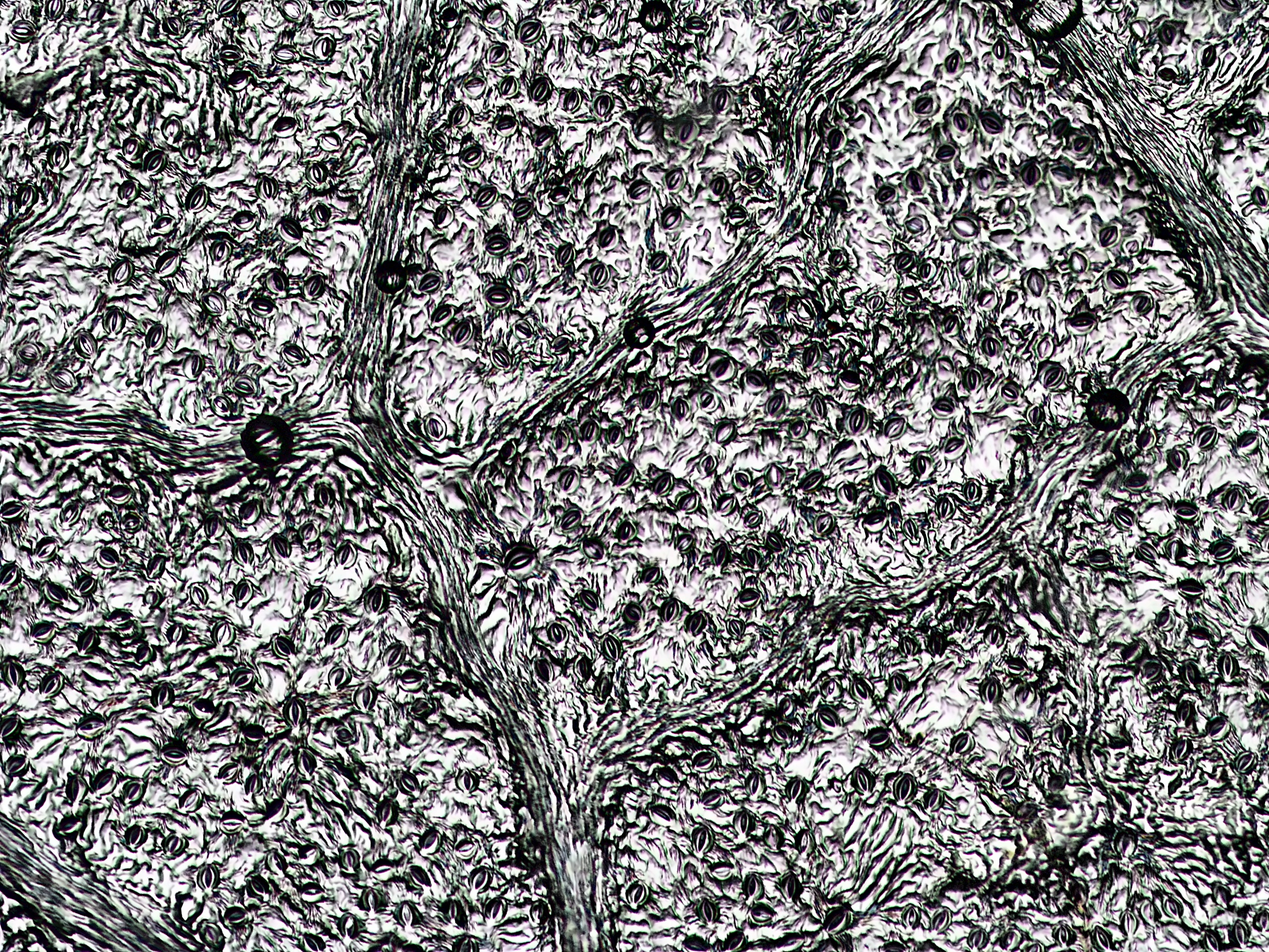stomata: (499, 545, 540, 578), (1059, 306, 1098, 335), (58, 770, 87, 808), (820, 905, 855, 936), (13, 179, 42, 215), (170, 894, 205, 923), (105, 257, 138, 287), (70, 715, 110, 739), (405, 863, 439, 891), (1110, 829, 1138, 863), (630, 112, 660, 143), (266, 532, 295, 564), (394, 766, 423, 798), (512, 17, 546, 44), (0, 657, 27, 691), (155, 742, 190, 768), (1028, 55, 1069, 77), (391, 899, 421, 929), (199, 510, 229, 540), (361, 584, 390, 615), (334, 910, 362, 942), (279, 697, 306, 730), (51, 501, 84, 528), (23, 112, 56, 139), (244, 873, 270, 907), (892, 773, 918, 807), (749, 129, 778, 159), (1166, 735, 1195, 765), (685, 341, 713, 372), (264, 265, 292, 296), (47, 367, 78, 395), (196, 921, 228, 948), (45, 142, 72, 174), (689, 826, 715, 859), (421, 410, 446, 444), (792, 296, 821, 325), (1036, 364, 1067, 391), (849, 766, 876, 797), (1088, 921, 1115, 952), (266, 44, 304, 66), (456, 74, 489, 99), (1215, 651, 1240, 684), (524, 74, 552, 103), (176, 785, 204, 814), (99, 307, 127, 336), (977, 334, 1007, 361), (115, 178, 145, 205), (688, 748, 718, 775), (372, 796, 398, 827), (195, 863, 221, 894), (465, 864, 491, 895), (645, 802, 676, 828), (528, 124, 560, 149), (205, 393, 237, 418), (197, 290, 229, 315), (1084, 546, 1116, 571), (150, 680, 174, 713), (947, 730, 975, 758), (1016, 159, 1043, 188), (1007, 720, 1036, 747), (480, 232, 514, 255), (296, 880, 330, 903), (25, 620, 59, 643), (226, 210, 260, 233), (978, 110, 1008, 136), (530, 339, 556, 369), (329, 724, 360, 749), (311, 32, 336, 63), (872, 465, 896, 497), (51, 814, 84, 837), (1117, 907, 1140, 940), (674, 118, 702, 145), (449, 319, 477, 346), (357, 886, 384, 914), (142, 551, 169, 579), (325, 662, 351, 691), (352, 683, 378, 712), (75, 628, 101, 657), (158, 115, 184, 144), (1209, 882, 1235, 911), (303, 585, 328, 615), (265, 848, 290, 878), (782, 774, 807, 804), (1023, 267, 1047, 298), (233, 500, 264, 524), (367, 857, 399, 880), (0, 755, 32, 778), (72, 332, 99, 359), (229, 537, 255, 565), (36, 672, 64, 698), (813, 707, 841, 733), (1050, 920, 1076, 948), (949, 215, 978, 240), (430, 204, 459, 229), (6, 17, 35, 42), (1111, 507, 1140, 532), (898, 902, 923, 931), (908, 93, 938, 117), (731, 808, 755, 838), (623, 878, 647, 908), (1177, 657, 1198, 691), (295, 747, 318, 778), (235, 722, 266, 745), (1050, 719, 1073, 750), (696, 788, 728, 810), (693, 388, 720, 414), (663, 168, 689, 195), (381, 642, 408, 668), (96, 543, 123, 569), (32, 536, 58, 563), (159, 12, 186, 38), (275, 217, 301, 244), (754, 326, 782, 351), (708, 357, 736, 382), (1033, 336, 1061, 361), (122, 823, 147, 851), (91, 767, 116, 795), (143, 324, 168, 352), (1232, 748, 1257, 776), (947, 110, 976, 134), (337, 846, 361, 875), (116, 510, 145, 534), (184, 184, 208, 213), (739, 873, 763, 902), (211, 620, 234, 650), (779, 873, 802, 903), (147, 214, 178, 236), (979, 676, 1001, 707), (1229, 918, 1251, 949), (658, 205, 684, 231), (586, 263, 612, 289), (473, 183, 499, 209), (159, 833, 185, 859), (865, 727, 891, 753), (1129, 292, 1156, 317), (1070, 131, 1095, 158), (624, 179, 651, 204), (480, 5, 507, 30), (310, 484, 337, 509), (253, 173, 278, 200), (208, 239, 235, 264), (860, 510, 888, 534), (1221, 487, 1245, 515), (652, 766, 680, 790), (484, 895, 507, 924), (1172, 699, 1195, 728), (548, 425, 570, 455), (987, 225, 1017, 247), (483, 288, 516, 308), (428, 305, 458, 327), (281, 342, 311, 364), (983, 621, 1005, 651), (1174, 578, 1205, 599), (762, 392, 787, 418), (333, 543, 358, 569), (1235, 430, 1260, 456), (1192, 426, 1218, 451), (416, 829, 440, 856), (231, 580, 255, 607), (121, 779, 145, 806), (298, 928, 325, 952), (72, 575, 99, 599), (1214, 390, 1238, 417), (1118, 638, 1145, 662), (993, 763, 1017, 790), (927, 907, 951, 934), (739, 370, 767, 393), (1067, 249, 1090, 277), (1006, 82, 1029, 110), (0, 562, 23, 590), (222, 69, 250, 92), (230, 372, 258, 395), (153, 252, 181, 275), (1132, 541, 1160, 564), (888, 669, 911, 697), (744, 772, 767, 800), (532, 656, 554, 685), (491, 115, 520, 137), (216, 812, 245, 834), (224, 904, 253, 926), (228, 329, 257, 351), (719, 930, 748, 952), (581, 538, 606, 563), (555, 470, 580, 495), (1046, 115, 1071, 140), (586, 1, 611, 26), (182, 354, 207, 379), (882, 416, 908, 440), (323, 624, 347, 650), (42, 582, 68, 606), (1245, 625, 1269, 651), (848, 676, 872, 702), (577, 417, 600, 444), (940, 434, 967, 457), (943, 51, 966, 78), (270, 636, 297, 659), (316, 132, 343, 155), (304, 159, 327, 186), (574, 589, 602, 611), (798, 470, 826, 492), (710, 87, 732, 115), (455, 146, 483, 168), (179, 135, 201, 163), (676, 934, 710, 952), (824, 126, 845, 155), (1170, 501, 1199, 522), (793, 828, 814, 857), (932, 144, 964, 163), (680, 14, 710, 34), (623, 74, 647, 99), (163, 623, 188, 647), (1209, 539, 1234, 563), (1138, 658, 1162, 683), (1205, 717, 1230, 741), (896, 633, 920, 658), (650, 472, 676, 495), (845, 407, 868, 433), (961, 479, 984, 505), (987, 37, 1010, 63), (764, 293, 790, 316), (560, 87, 583, 113), (417, 273, 443, 296), (440, 897, 463, 923), (1163, 536, 1186, 562), (1185, 626, 1211, 649), (933, 496, 955, 523), (547, 333, 574, 355), (269, 115, 296, 137), (310, 200, 332, 227), (15, 342, 42, 364), (765, 462, 786, 490), (925, 632, 946, 660), (405, 698, 434, 718), (103, 483, 132, 503), (121, 134, 141, 163), (1249, 183, 1269, 212), (1161, 892, 1181, 921), (142, 150, 166, 174), (1165, 447, 1189, 471), (713, 421, 736, 446), (746, 83, 771, 106), (448, 105, 471, 130), (0, 714, 23, 739), (1023, 403, 1045, 429), (505, 261, 531, 283), (574, 36, 600, 58), (455, 768, 477, 794), (267, 797, 289, 823), (965, 926, 987, 952), (600, 635, 621, 662), (961, 367, 982, 394), (529, 897, 550, 924), (249, 297, 276, 318), (953, 608, 974, 635), (495, 76, 519, 99), (296, 844, 320, 867), (1129, 19, 1153, 42), (1177, 374, 1200, 398), (760, 429, 782, 454), (973, 166, 995, 191), (186, 582, 208, 607), (1154, 608, 1176, 633), (922, 788, 944, 813), (813, 511, 834, 537), (837, 481, 858, 507), (940, 266, 961, 292), (723, 206, 749, 227), (452, 839, 478, 860), (229, 668, 255, 689), (325, 0, 351, 21), (698, 898, 719, 924), (997, 924, 1018, 950), (895, 287, 922, 307), (1103, 270, 1130, 290), (892, 250, 915, 273), (1013, 684, 1036, 707), (713, 493, 735, 517), (998, 382, 1022, 404), (1051, 163, 1075, 185), (595, 227, 619, 249), (640, 388, 661, 413), (822, 194, 851, 212), (397, 670, 426, 688), (686, 612, 706, 638), (837, 371, 863, 391), (106, 608, 132, 628), (762, 824, 782, 850), (801, 342, 820, 369), (612, 465, 635, 487), (546, 621, 568, 644), (510, 198, 533, 220), (772, 723, 794, 746), (554, 243, 575, 267), (303, 276, 324, 300), (1202, 927, 1222, 952), (750, 904, 776, 923), (748, 475, 765, 504), (1140, 899, 1157, 928), (706, 862, 733, 880), (835, 98, 857, 120), (593, 94, 615, 116), (490, 347, 512, 369), (660, 599, 681, 622), (1097, 224, 1118, 247), (0, 500, 23, 521), (1133, 429, 1156, 450), (558, 510, 582, 530), (546, 185, 570, 205), (243, 773, 263, 797), (189, 698, 213, 718), (899, 518, 918, 543), (646, 253, 671, 272), (279, 1, 304, 20), (1124, 472, 1149, 491), (1003, 657, 1028, 676), (912, 452, 930, 478), (1251, 496, 1269, 522), (614, 520, 635, 542), (724, 617, 746, 638), (916, 260, 938, 281), (218, 46, 245, 63), (1154, 64, 1178, 83), (872, 186, 897, 204), (621, 603, 642, 624), (989, 260, 1010, 281), (905, 170, 926, 191), (820, 678, 841, 699), (775, 695, 795, 717), (736, 587, 759, 606), (943, 314, 962, 337), (427, 131, 450, 150), (1245, 115, 1264, 138), (605, 423, 623, 447), (995, 195, 1015, 216), (707, 176, 727, 197), (487, 44, 508, 64), (679, 491, 698, 513), (825, 248, 847, 267), (932, 397, 954, 416), (1198, 44, 1217, 66), (215, 763, 238, 781), (742, 544, 759, 568), (594, 676, 611, 700), (712, 543, 728, 568), (513, 318, 533, 338), (1006, 327, 1027, 346), (573, 657, 590, 680), (300, 523, 317, 546), (977, 290, 997, 309), (135, 645, 154, 665), (790, 418, 808, 439), (957, 256, 975, 277), (84, 2, 105, 20), (1159, 23, 1176, 45), (144, 589, 163, 608), (865, 292, 883, 312), (697, 456, 718, 473), (903, 216, 924, 233), (638, 567, 661, 582), (765, 533, 784, 551), (744, 167, 765, 183), (743, 511, 762, 528), (811, 395, 825, 418), (733, 471, 750, 489), (673, 399, 688, 419), (1123, 239, 1141, 255), (676, 534, 692, 551)
